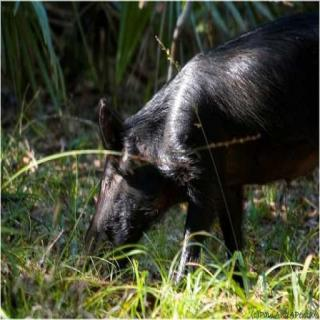Pig: (67, 7, 320, 282)
